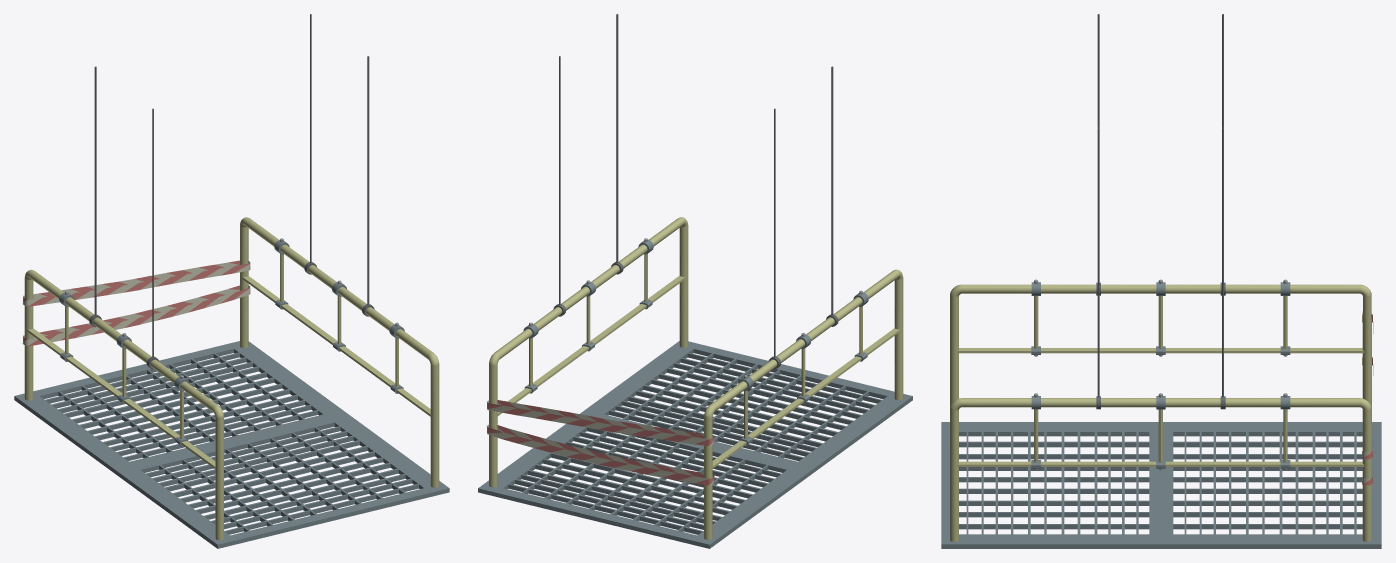
The model's file is Floating_Walkway_Deadend.fbx.
3 views of the same model, side by side, from view 1: azimuth 30°, elevation 25°; view 2: azimuth 150°, elevation 25°; view 3: azimuth 270°, elevation 25° (orthographic). The views are drawn at different scales.
Parts seen in each view (by area): view 1: pCube48, pCylinder55, pCylinder53; view 2: pCube48, pCylinder54, pCylinder53; view 3: pCube48, pCylinder53, pCylinder56.
Part boxes in pixels (left/top/right/bottom): pCube48: left=14, top=217, right=449, bottom=548; pCylinder55: left=94, top=66, right=96, bottom=315; pCylinder53: left=367, top=56, right=369, bottom=305; pCube48: left=478, top=217, right=912, bottom=548; pCylinder54: left=831, top=66, right=833, bottom=315; pCylinder53: left=616, top=14, right=618, bottom=262; pCube48: left=941, top=279, right=1381, bottom=548; pCylinder53: left=1097, top=127, right=1099, bottom=397; pCylinder56: left=1222, top=127, right=1223, bottom=397.
Size of the model in its own units: 1.31 by 2.08 by 1.99.
